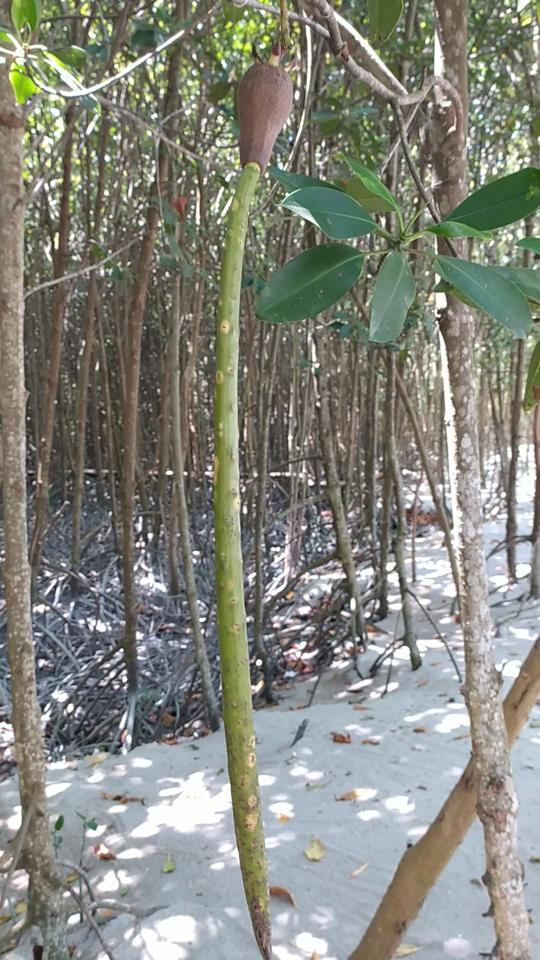setengah matang: (209, 33, 315, 956)
